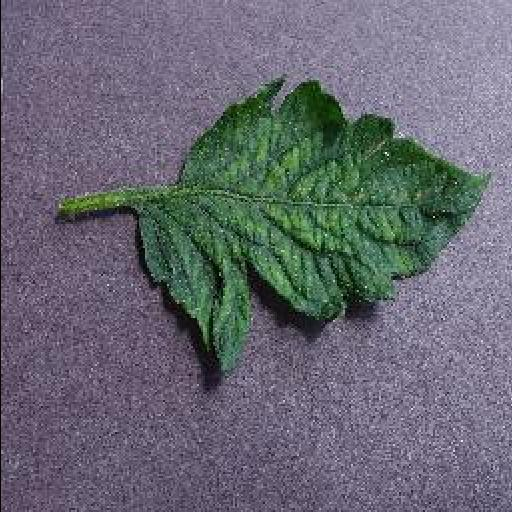Mosaic Virus: (136, 74, 494, 378)
